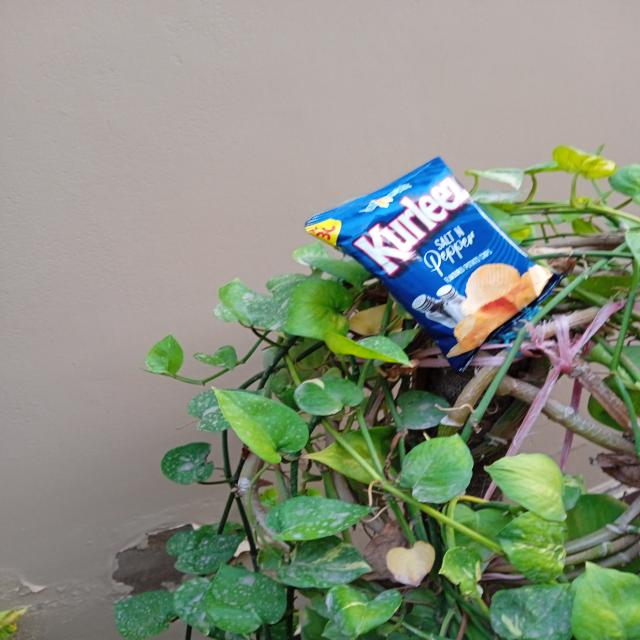Plastic: (310, 160, 562, 369)
